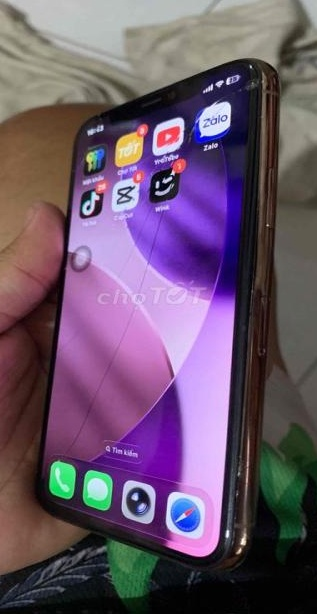physical_damage: (56, 76, 261, 499)
scratch: (219, 427, 255, 552)
